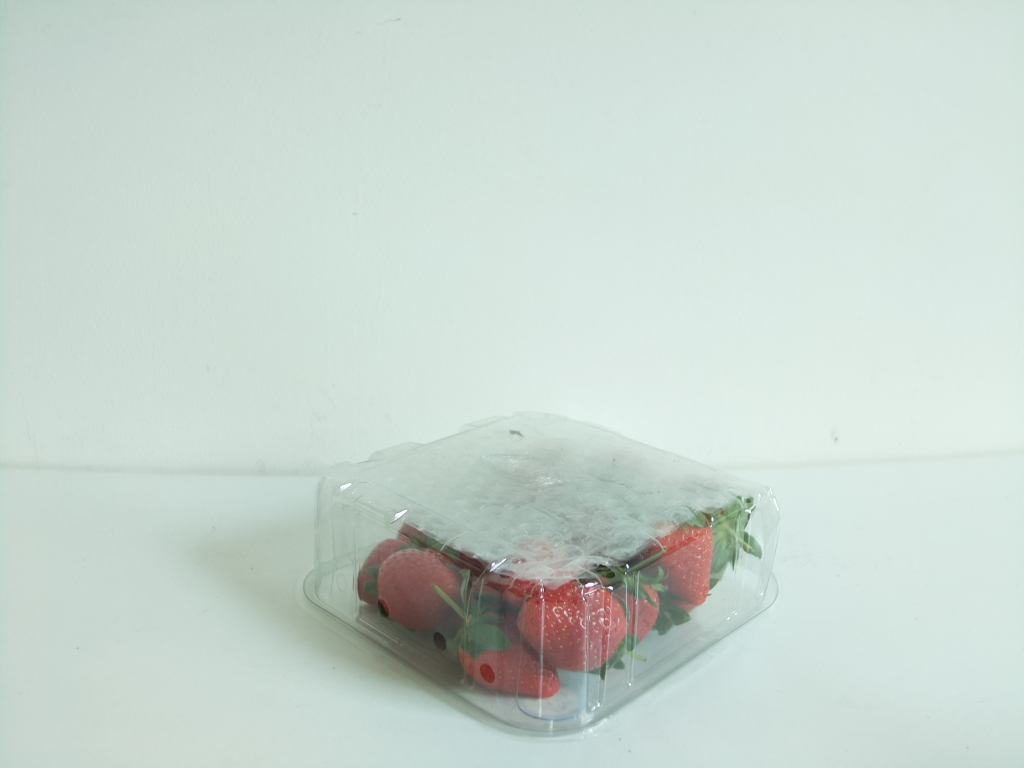soft-fruit: (287, 408, 789, 740)
